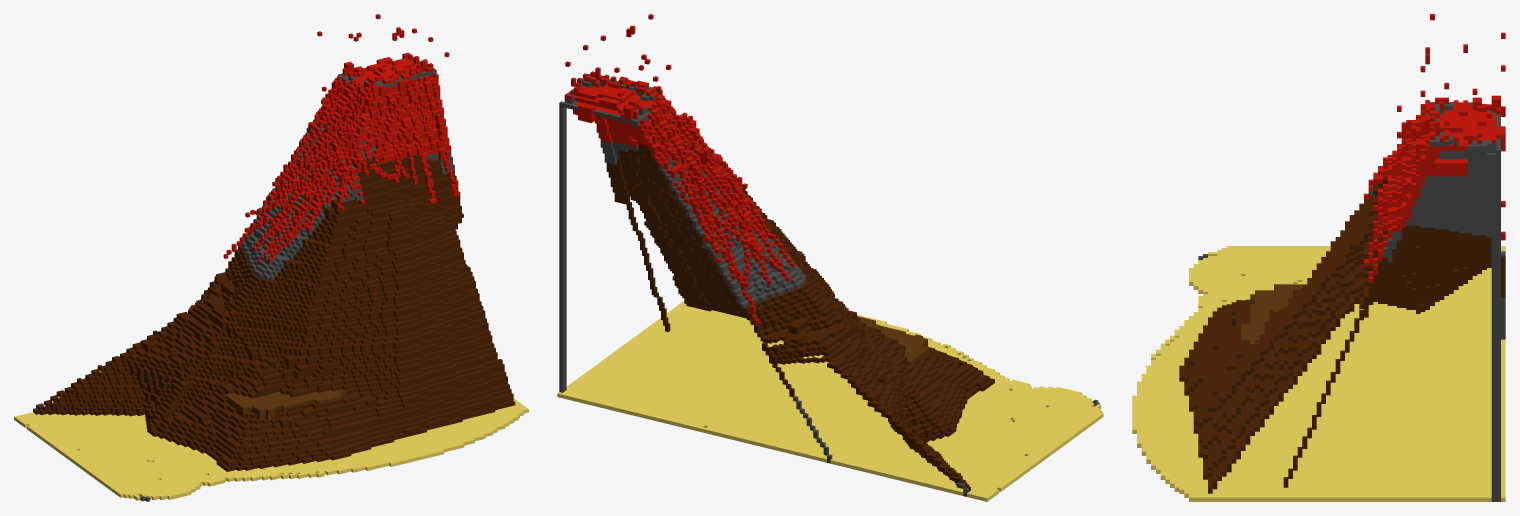
File: Vulkano.obj
3 views of the same model, side by side, from view 1: azimuth 30°, elevation 25°; view 2: azimuth 150°, elevation 25°; view 3: azimuth 270°, elevation 25° (orthographic). The views are drawn at different scales.
Parts seen in each view (by area): view 1: Vulkano; view 2: Vulkano; view 3: Vulkano.
Part boxes in pixels (box(x1,y1,x2,y2)): Vulkano: box(14, 14, 528, 501); Vulkano: box(557, 14, 1103, 501); Vulkano: box(1132, 14, 1505, 501).
Bounding box in the file's own units: 126 × 105 × 79.
1 material, 1 textured.
